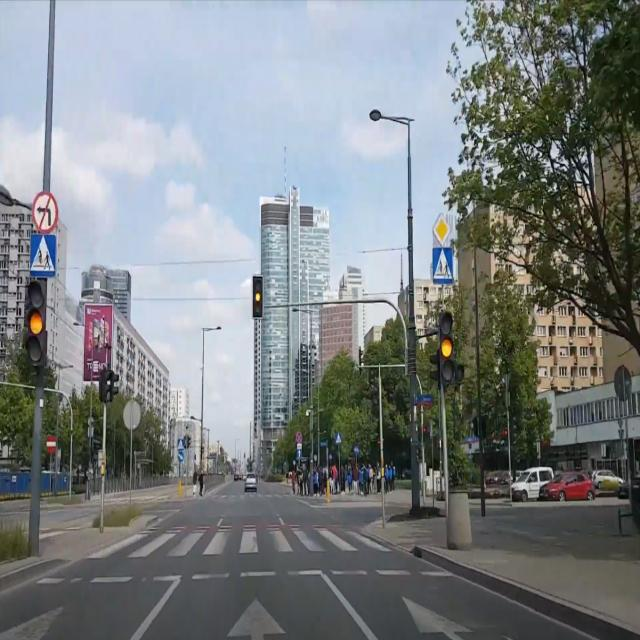Droga z pierwszenstwem: (432, 212, 452, 246)
Zakaz wjazdu: (46, 434, 57, 454)
Zakaz zatrzymywania sie: (295, 431, 302, 443)
